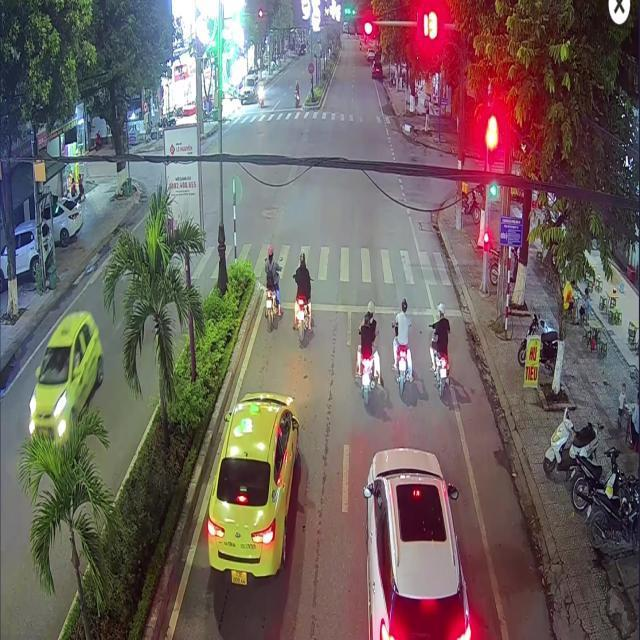car: (362, 447, 470, 638), (206, 392, 297, 583)
motobike: (428, 335, 447, 397), (263, 274, 280, 329), (292, 295, 311, 342), (359, 357, 376, 405), (396, 345, 411, 395)
red_light: (346, 15, 373, 36), (486, 135, 495, 168), (483, 236, 487, 254)
stop_line: (263, 299, 460, 315)
